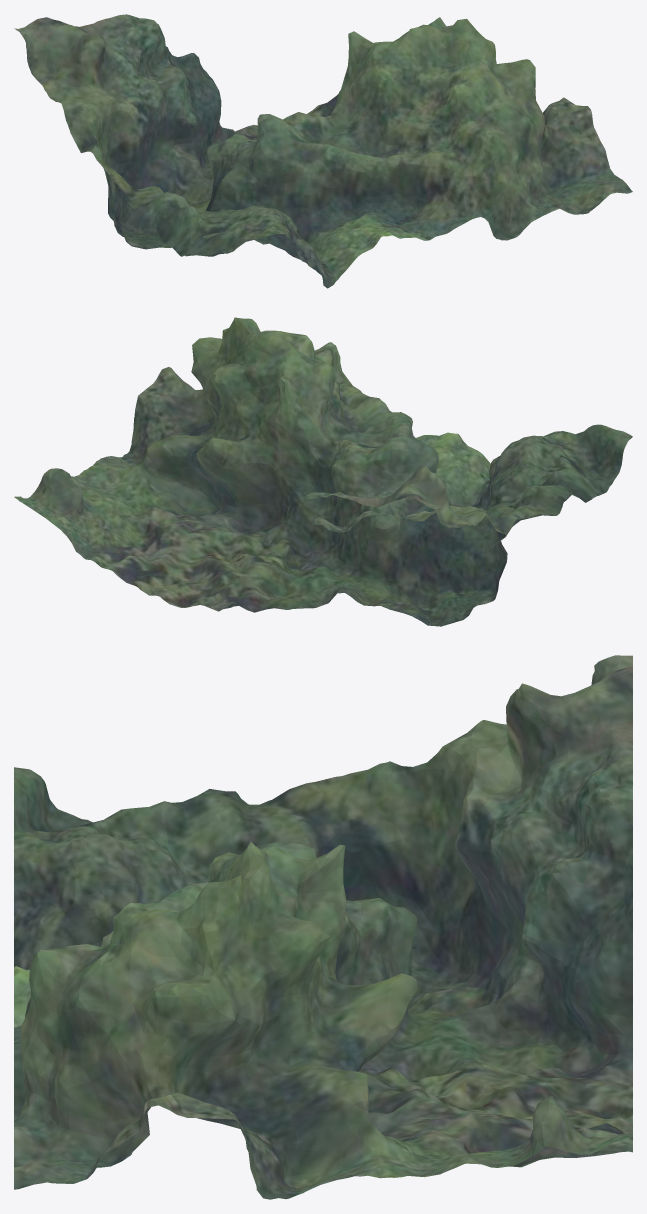
The model's file is Tile_+006_+006_L22_00012300.glb.
3 views of the same model, one above another, from view 1: azimuth 30°, elevation 25°; view 2: azimuth 150°, elevation 25°; view 3: azimuth 270°, elevation 25° (orthographic). The views are drawn at different scales.
Visible parts, largest first — view 1: rtc; view 2: rtc; view 3: rtc.
Boxes of the visible parts, x1=… form: rtc: x1=14, y1=14, x2=632, y2=288; rtc: x1=14, y1=317, x2=632, y2=626; rtc: x1=14, y1=655, x2=632, y2=1199.
Size of the model in its own units: 15.97 by 7.08 by 12.56.
Materials: 1 (1 with a texture image).
